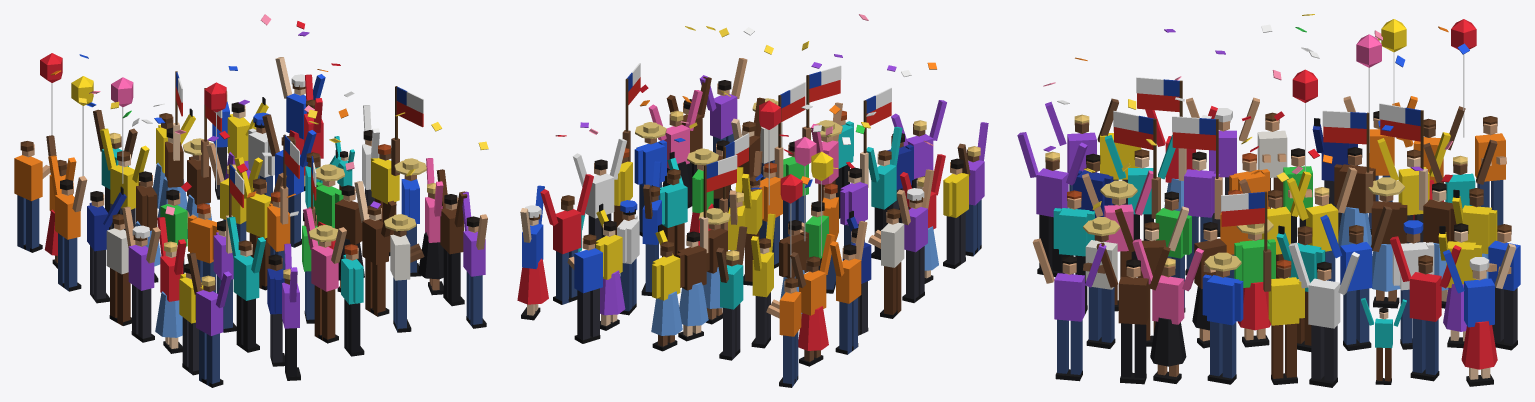
File: multitud_fiesta_2.obj
The picture shows the model from 3 angles, left to right: view 1: azimuth 30°, elevation 25°; view 2: azimuth 150°, elevation 25°; view 3: azimuth 270°, elevation 25°; orthographic projection. The views are drawn at different scales.
Parts seen in each view (by area): view 1: multitud_fiesta_2; view 2: multitud_fiesta_2; view 3: multitud_fiesta_2.
Boxes of the visible parts, <box> form: multitud_fiesta_2: <box>14,14,488,387</box>; multitud_fiesta_2: <box>517,14,988,387</box>; multitud_fiesta_2: <box>1017,14,1520,387</box>.
Size of the model in its own units: 4.98 by 3.39 by 6.5.
